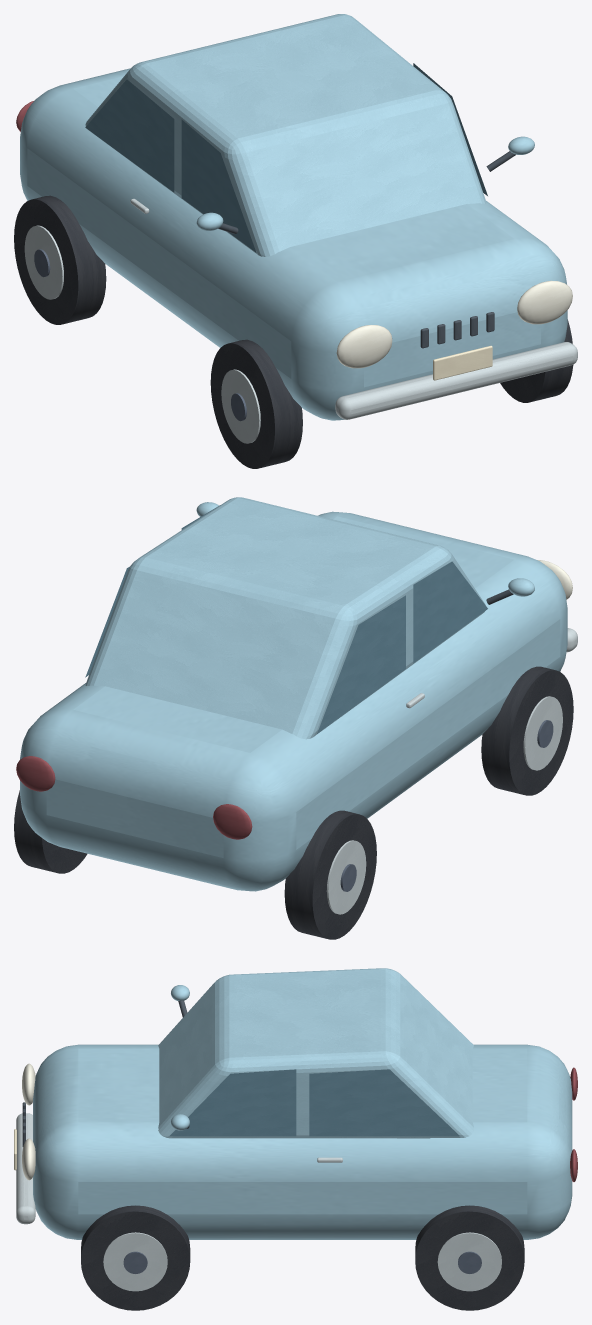
File: car_1.glb
The picture shows the model from 3 angles, top to bottom: view 1: azimuth 30°, elevation 25°; view 2: azimuth 150°, elevation 25°; view 3: azimuth 270°, elevation 25°; orthographic projection. The views are drawn at different scales.
Visible parts, largest first — view 1: car_1; view 2: car_1; view 3: car_1.
Boxes of the visible parts, bbox=[...] form: car_1: bbox=[14, 14, 577, 468]; car_1: bbox=[14, 497, 577, 939]; car_1: bbox=[14, 968, 577, 1310].
Size of the model in its own units: 2.05 by 1.64 by 3.5.
Materials: 3 (3 with a texture image).
